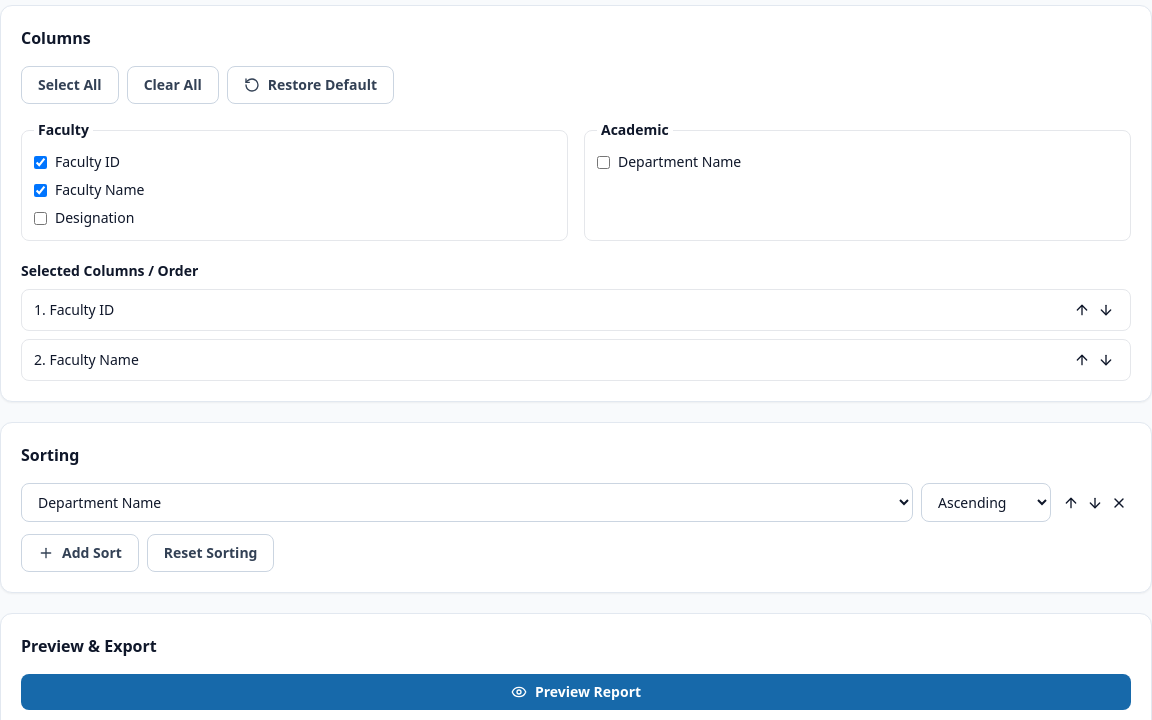
Scenario: administrative report builder › renders preview in selected order with readable values and row count
(page scrolled)
Click the button named "Move Faculty Name up" at {"x": 1082, "y": 360}, box x1=1070 y1=348 x2=1094 y2=372
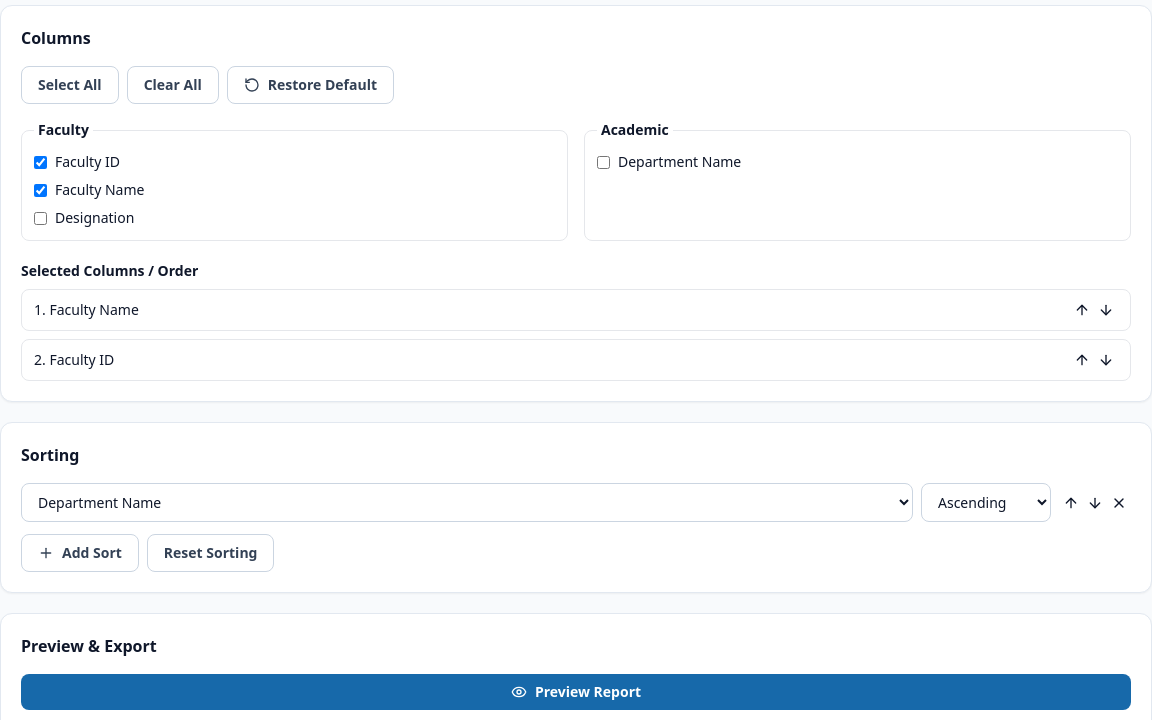
Click the button "Preview Report" at {"x": 576, "y": 692}, box x1=21 y1=674 x2=1131 y2=710
(page scrolled)
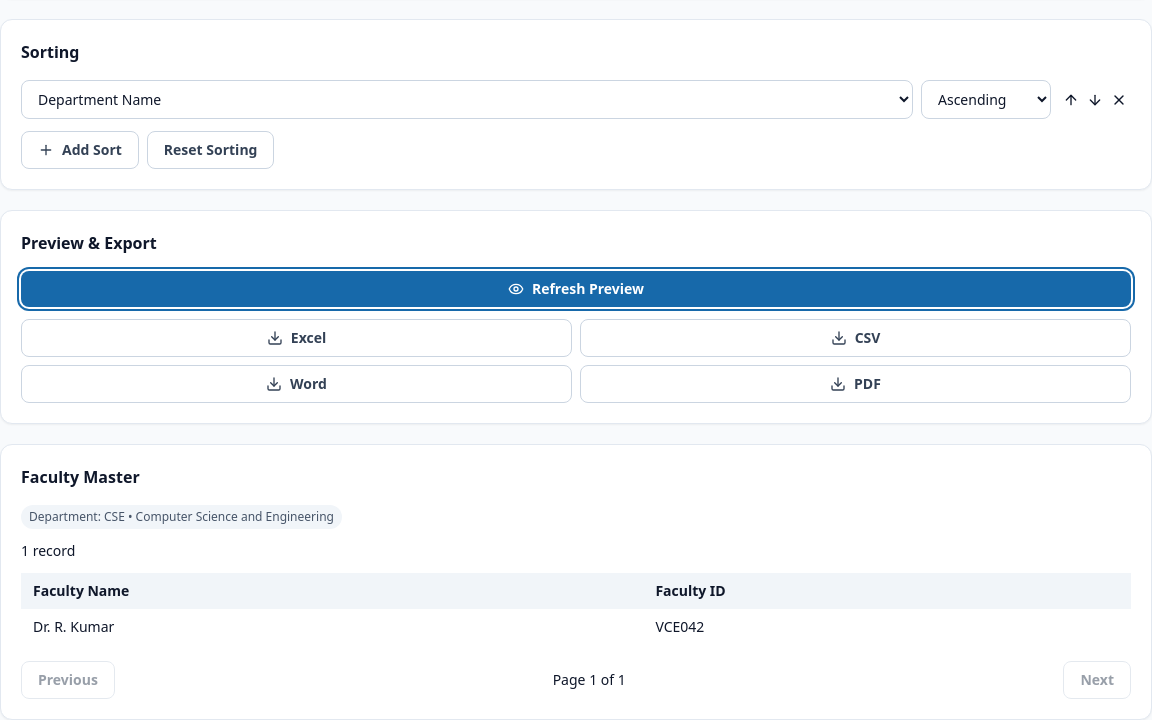
expect the text "Dr. R. Kumar" is shown: met, box x1=21 y1=609 x2=643 y2=645
expect the column headings read "Faculty Name", "Faculty ID", in this order: met, box x1=21 y1=573 x2=643 y2=609; x1=643 y1=573 x2=1131 y2=609
expect the text "1 record" is shown: met, box x1=21 y1=541 x2=75 y2=560
